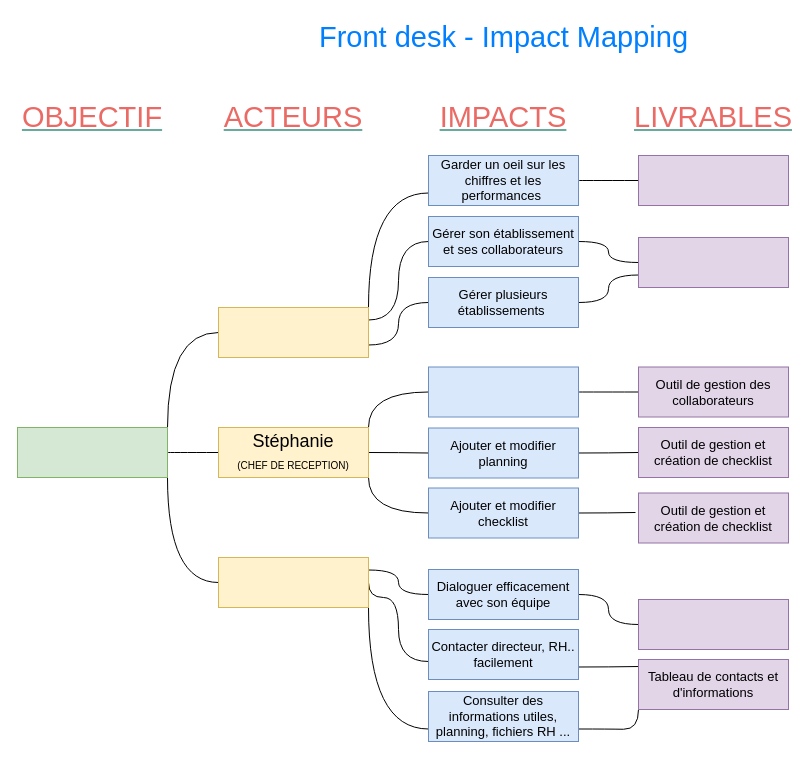
This 810x759 diagram has some shape labels left out. The centre of each missing label's shape, as x and y in pixels:
"Caroline (RÉCEPTIONNISTE)" goes at (293,582).
"Créer outils digitaux pour hôtelier" goes at (92,452).
"Dashboard d'informations" goes at (713,180).
"Espace de travail digital" goes at (713,624).
"Gestion multi-propriété" goes at (713,262).
"Modifier utilisateurs" goes at (503,391).
"Raphaël (DIRECTEUR)" goes at (293,332).
